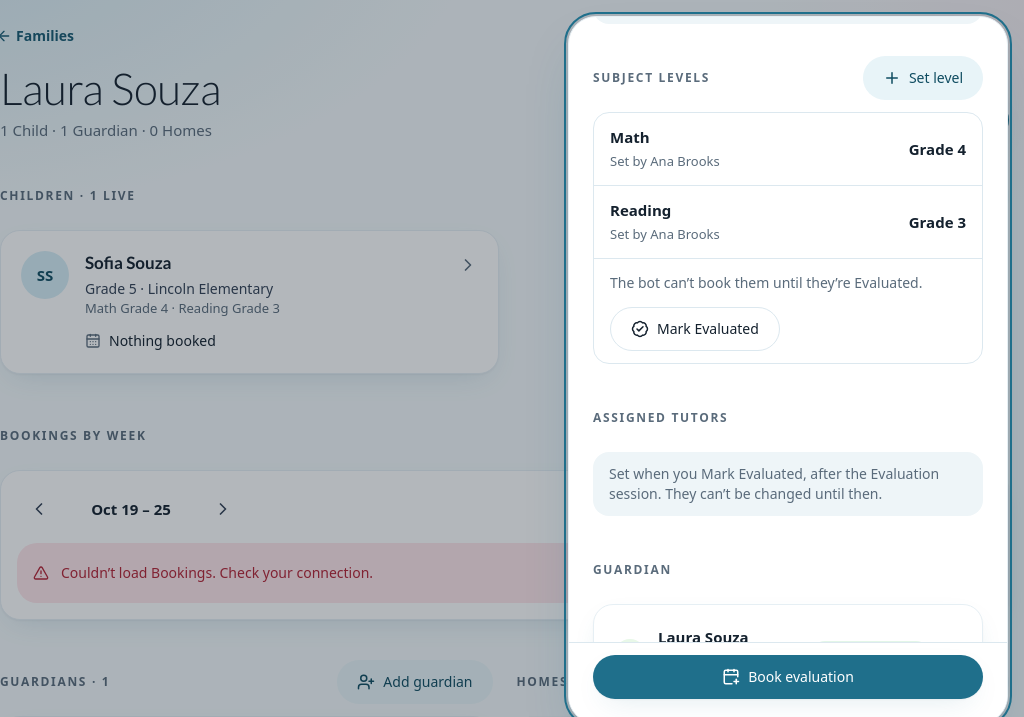
mark evaluated › focuses the first Subject level
(page scrolled)
Click the button "Mark Evaluated" at (695, 329), box 610,307 -> 780,351
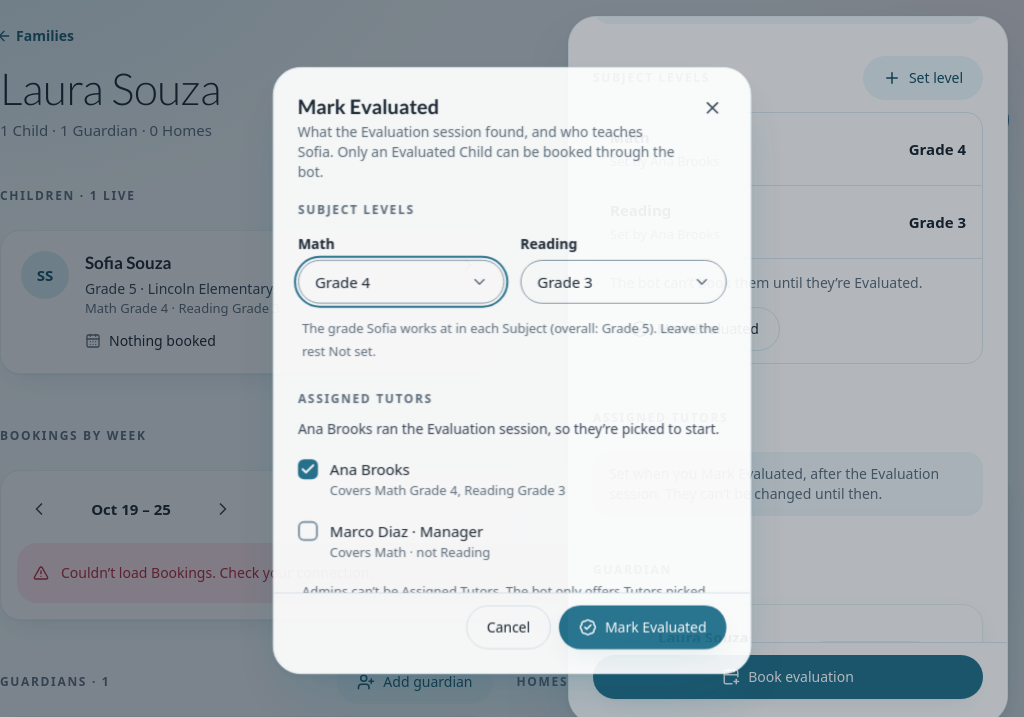
Result: the dialog "Mark Evaluated" is shown at 272,66 -> 752,674
